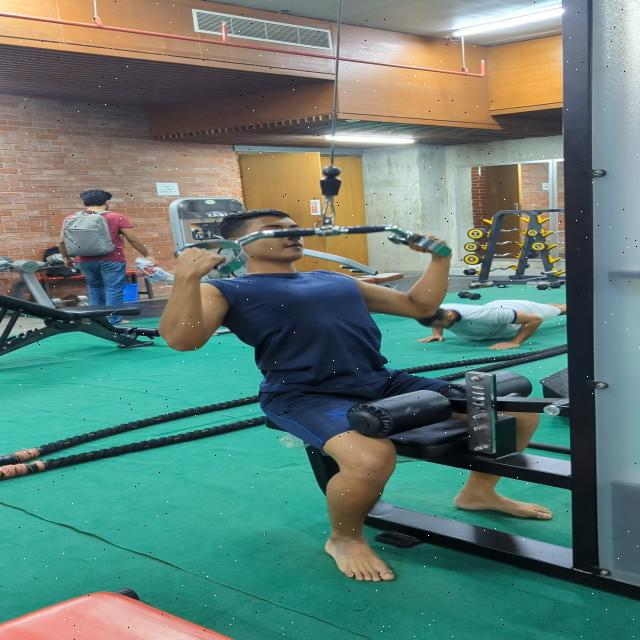Normal_LatPulldown: (148, 198, 560, 590)
